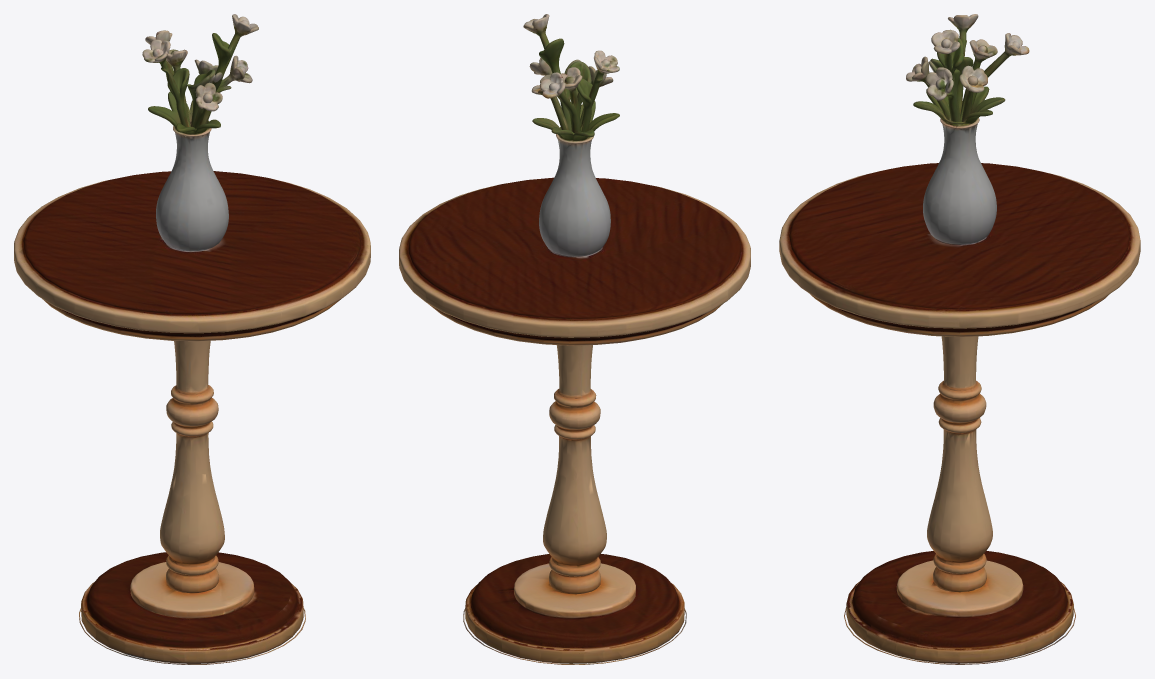
Rendered from table.glb.
The picture shows the model from 3 angles, left to right: view 1: azimuth 30°, elevation 25°; view 2: azimuth 150°, elevation 25°; view 3: azimuth 270°, elevation 25°; orthographic projection. The views are drawn at different scales.
Visible parts, largest first — view 1: material; view 2: material; view 3: material.
Part boxes in pixels (x1,y1,x2,y2): material: (14,14,370,664); material: (399,14,750,664); material: (779,14,1140,664).
Size of the model in its own units: 0.6196 by 1.14 by 0.6159.
Materials: 1 (1 with a texture image).
